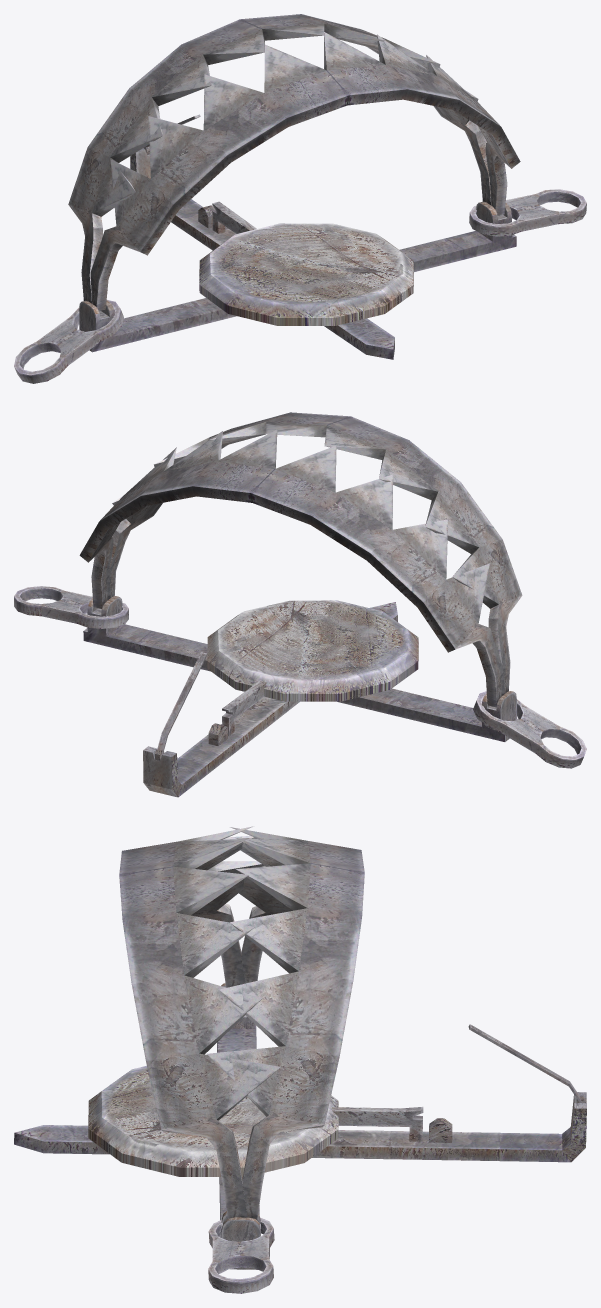
The picture shows the model from 3 angles, top to bottom: view 1: azimuth 30°, elevation 25°; view 2: azimuth 150°, elevation 25°; view 3: azimuth 270°, elevation 25°; orthographic projection. The views are drawn at different scales.
Parts seen in each view (by area): view 1: Trap_LeftSide, Trap_Center, Trap_RightSide, Trap_Cross, Trap_1, Trap_4; view 2: Trap_RightSide, Trap_Center, Trap_LeftSide, Trap_Cross, Trap_1, Trap_4, Trap_3; view 3: Trap_LeftSide, Trap_RightSide, Trap_Cross, Trap_Center, Trap_1, Trap_4, Trap_3.
Boxes of the visible parts, x1=… form: Trap_LeftSide: x1=90, y1=32, x2=520, y2=310; Trap_Center: x1=199, y1=223, x2=413, y2=325; Trap_RightSide: x1=68, y1=14, x2=491, y2=303; Trap_Cross: x1=78, y1=146, x2=516, y2=359; Trap_1: x1=14, y1=189, x2=586, y2=383; Trap_4: x1=212, y1=201, x2=256, y2=233; Trap_RightSide: x1=79, y1=429, x2=504, y2=707; Trap_Center: x1=207, y1=600, x2=418, y2=701; Trap_LeftSide: x1=109, y1=412, x2=522, y2=693; Trap_Cross: x1=83, y1=596, x2=518, y2=797; Trap_1: x1=14, y1=586, x2=586, y2=768; Trap_4: x1=222, y1=680, x2=266, y2=735; Trap_3: x1=157, y1=652, x2=207, y2=756; Trap_LeftSide: x1=119, y1=826, x2=280, y2=1218; Trap_RightSide: x1=207, y1=827, x2=364, y2=1219; Trap_Cross: x1=14, y1=983, x2=586, y2=1269; Trap_Center: x1=88, y1=1065, x2=338, y2=1176; Trap_1: x1=208, y1=1015, x2=274, y2=1293; Trap_4: x1=332, y1=1106, x2=423, y2=1141; Trap_3: x1=468, y1=1024, x2=582, y2=1102.
Bounding box in the file's own units: 149 × 67.41 × 112.
Materials: 1 (1 with a texture image).
